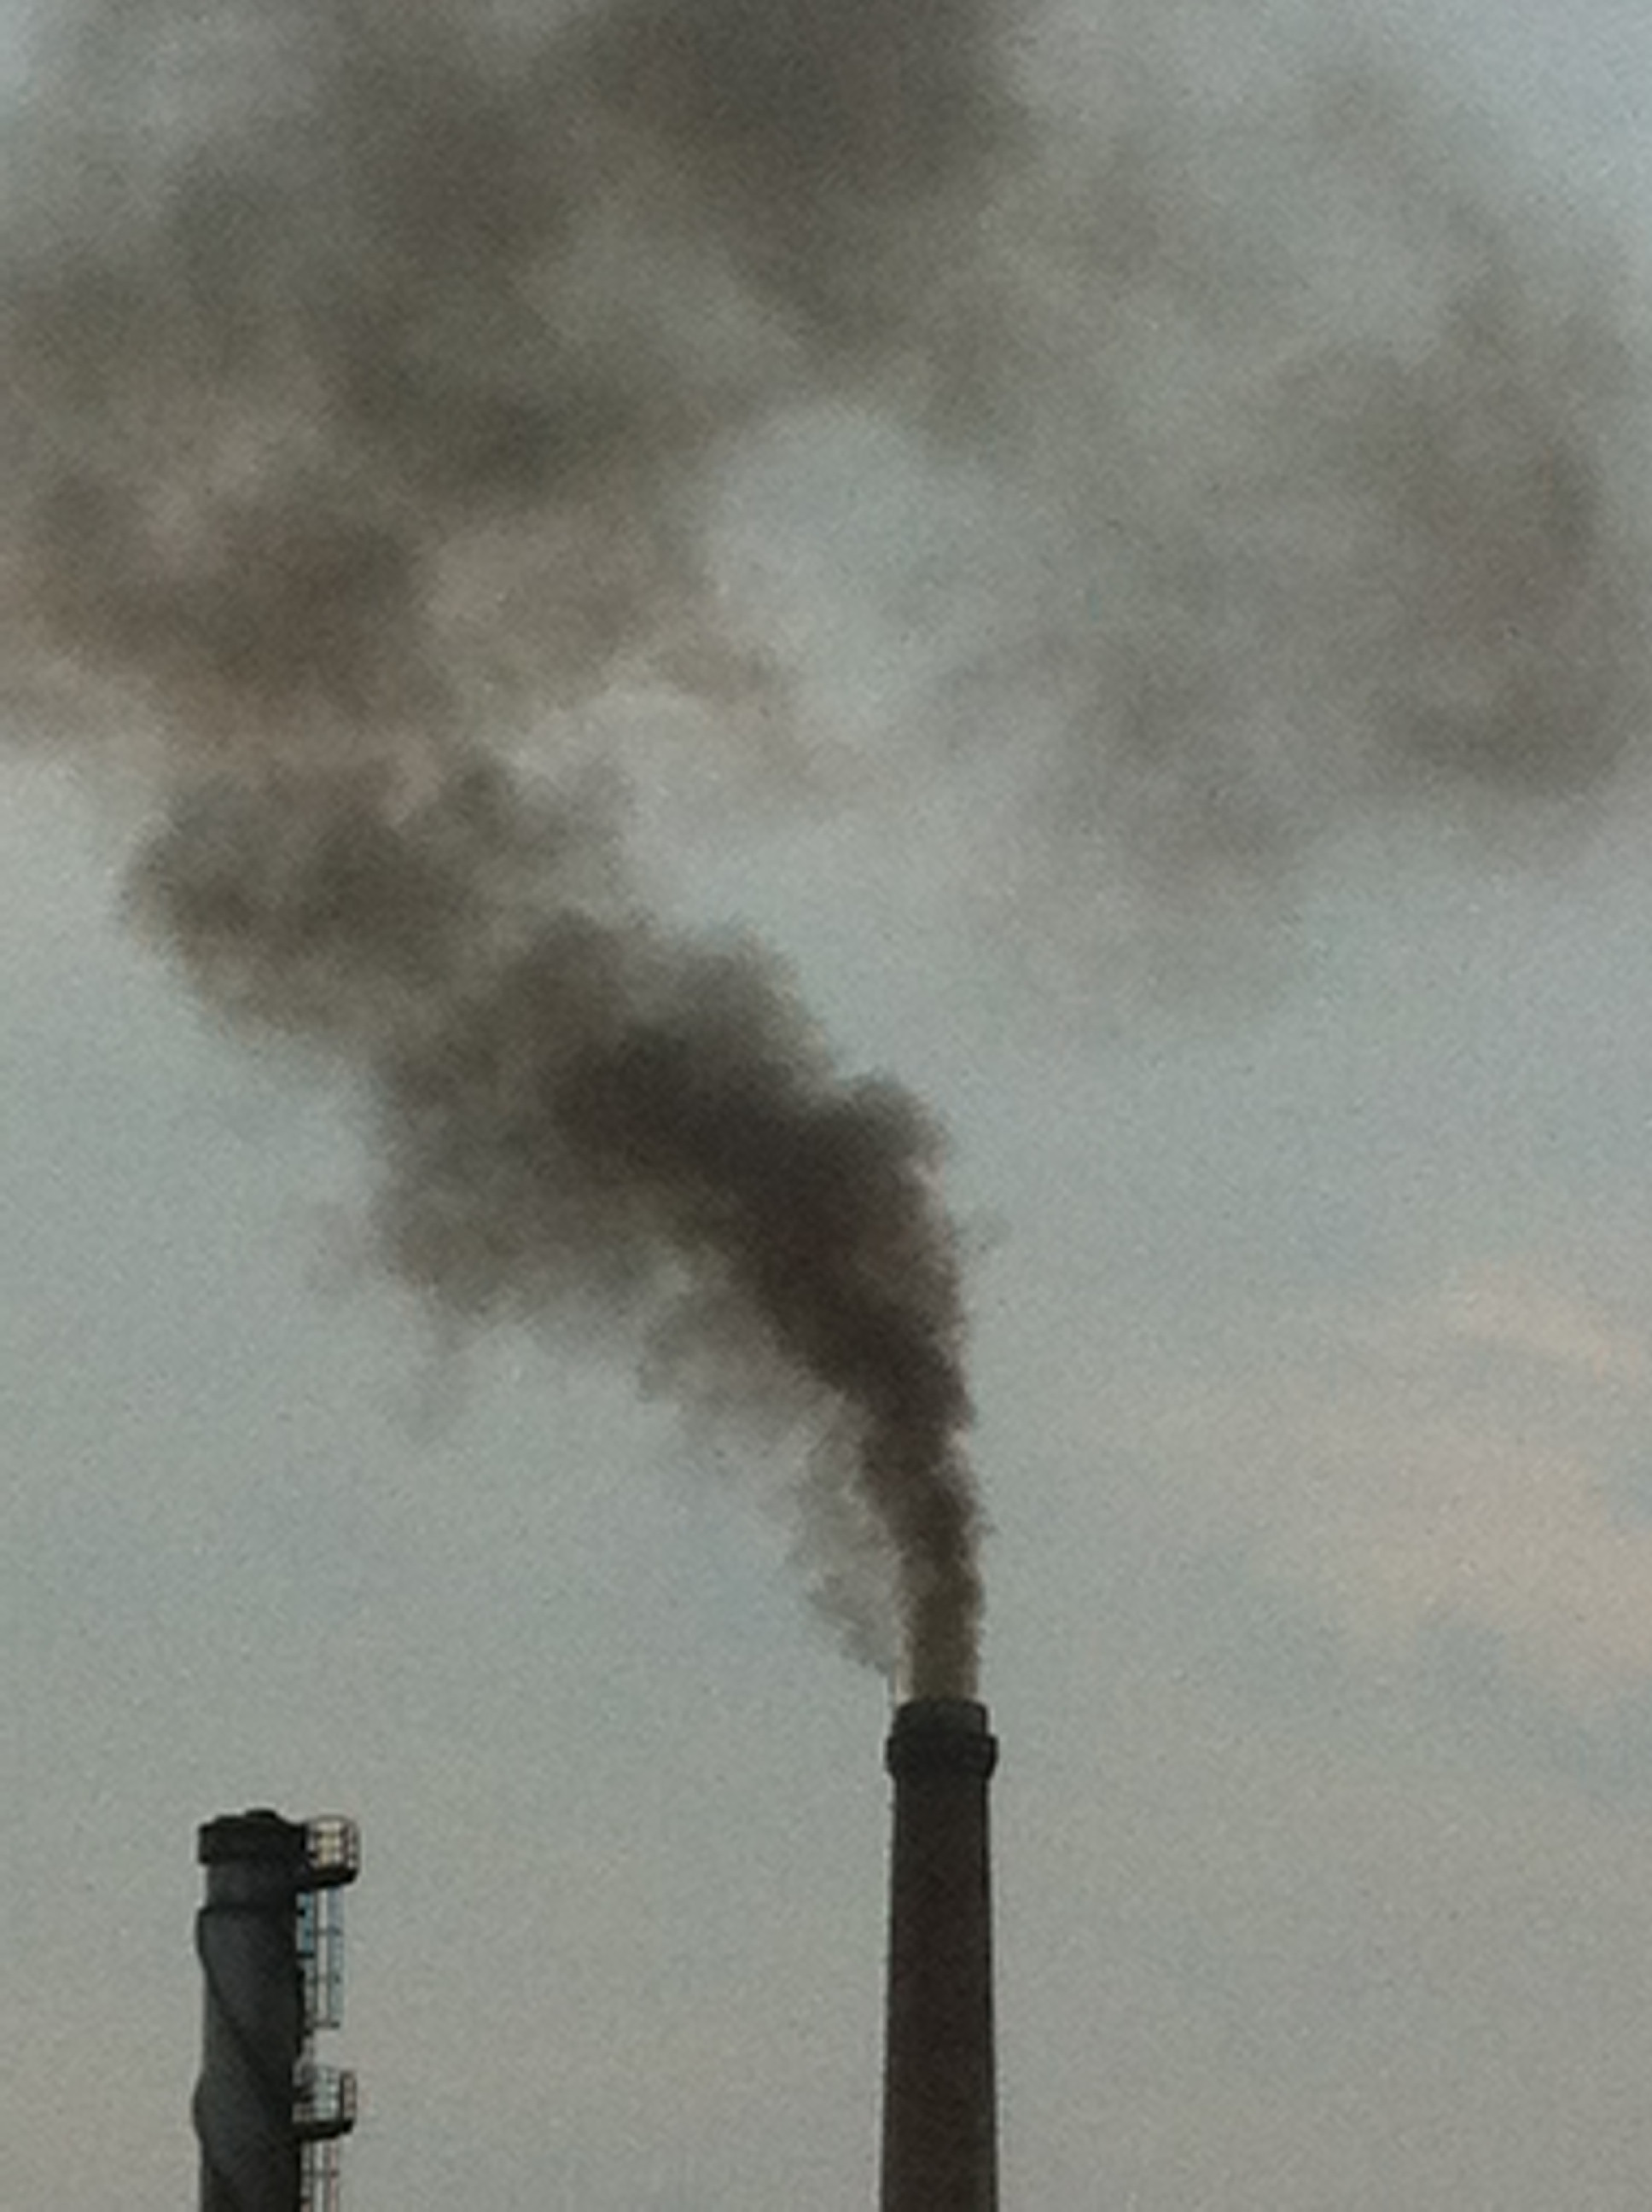dust: (463, 1050, 1145, 1752)
